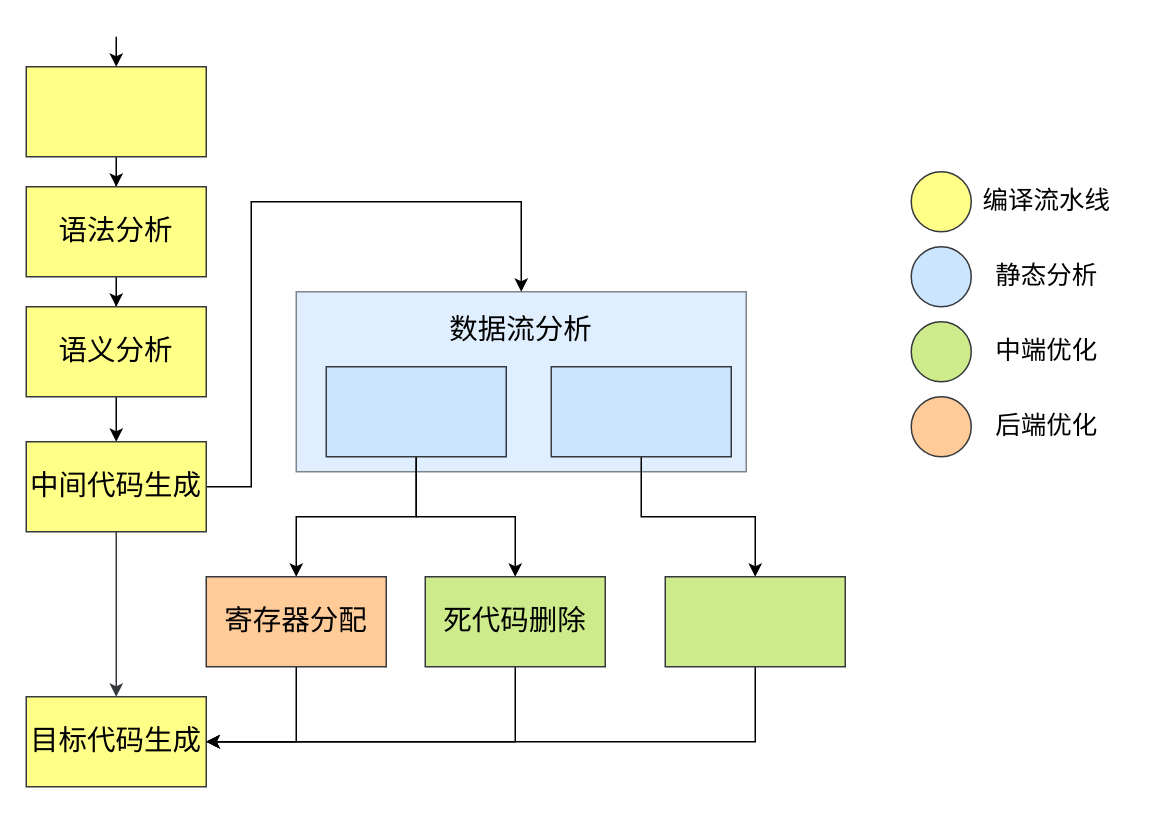
The diagram is 1155 pixels wide and 813 high, and some of its shapes have lost their labels. Each missing label, with the box of its shape:
Mem2Reg: (664, 575, 845, 667)
支配关系分析: (550, 365, 731, 457)
活跃变量分析: (325, 365, 506, 457)
词法分析: (25, 65, 206, 157)
